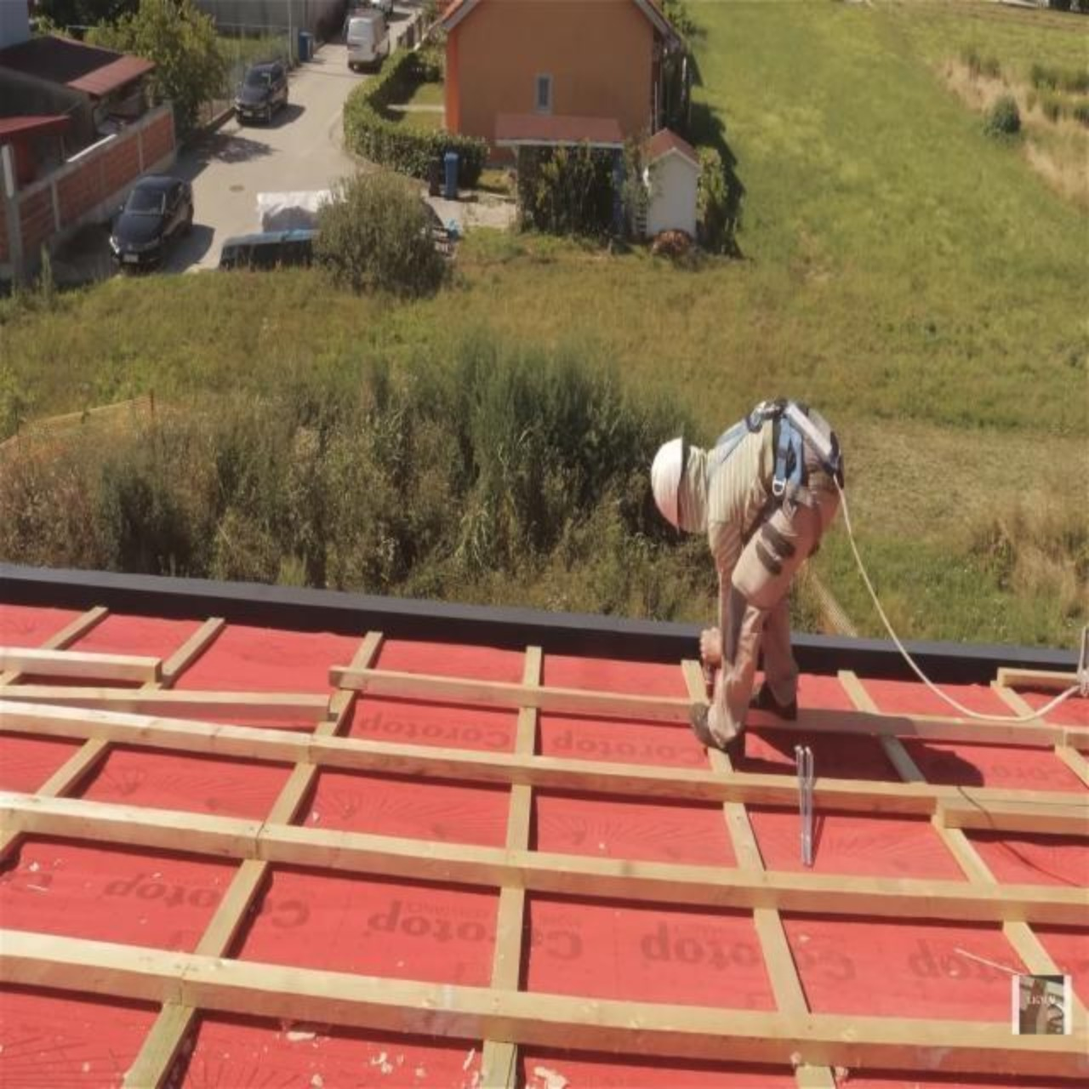helmet: (651, 430, 690, 537)
person: (650, 396, 851, 761)
vest: (710, 398, 852, 534)
